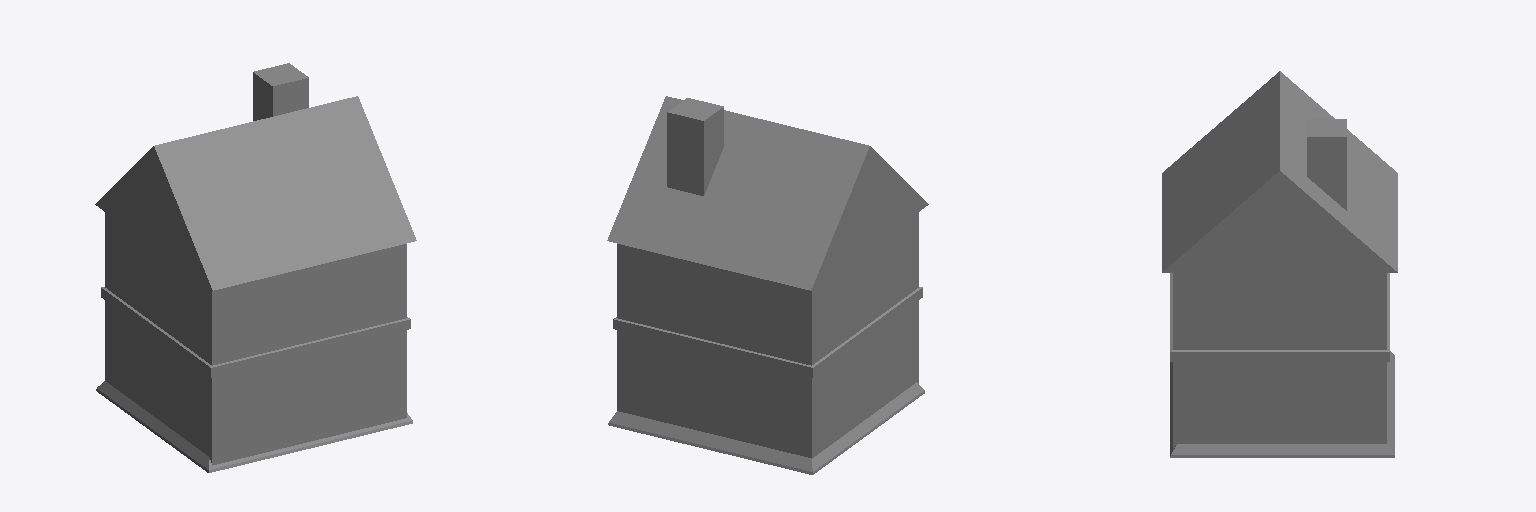
File: Hous_9_Cut.obj
The picture shows the model from 3 angles: view 1: azimuth 30°, elevation 25°; view 2: azimuth 150°, elevation 25°; view 3: azimuth 270°, elevation 25°; orthographic projection.
Parts seen in each view (by area): view 1: House9_R, House9_T; view 2: House9_R, House9_T; view 3: House9_R, House9_T.
Boxes of the visible parts, x1,y1,x2,y2 form: House9_R: [95, 63, 416, 377]; House9_T: [96, 300, 412, 472]; House9_R: [607, 96, 928, 377]; House9_T: [608, 300, 924, 474]; House9_R: [1162, 71, 1397, 361]; House9_T: [1170, 351, 1394, 457].
Bounding box in the file's own units: 6.31 × 8.95 × 6.29.